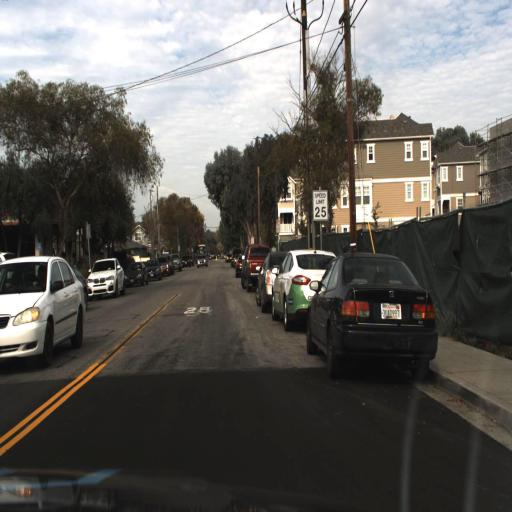car: (303, 247, 438, 377), (0, 250, 87, 370), (271, 246, 334, 332), (270, 246, 327, 333), (84, 250, 124, 302), (254, 244, 281, 312), (85, 255, 124, 300), (254, 247, 279, 313), (239, 244, 262, 293), (121, 254, 147, 291), (69, 265, 89, 311), (121, 262, 147, 289), (141, 258, 162, 280), (169, 252, 183, 275), (159, 254, 172, 276), (195, 253, 207, 268)
